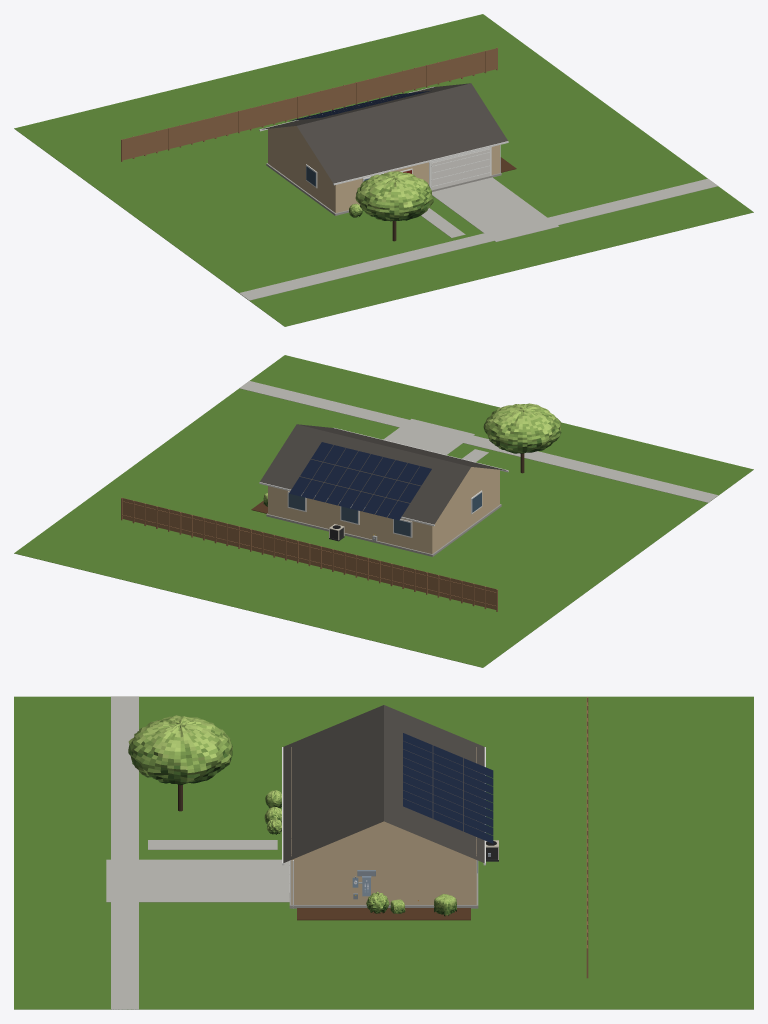
The model's file is home_02_pre_install.obj.
The picture shows the model from 3 angles, top to bottom: view 1: azimuth 30°, elevation 25°; view 2: azimuth 150°, elevation 25°; view 3: azimuth 270°, elevation 25°; orthographic projection. The views are drawn at different scales.
Visible parts, largest first — view 1: yard, house, tree_1, solar_array; view 2: yard, house, solar_array, tree_1; view 3: yard, house, solar_array, tree_1, mulch_bed_side.
Boxes of the visible parts, x1,y1,x2,y2 form: yard: [14, 14, 753, 326]; house: [259, 83, 508, 215]; tree_1: [355, 171, 433, 241]; solar_array: [290, 90, 431, 120]; yard: [14, 355, 753, 667]; house: [259, 424, 508, 556]; solar_array: [289, 442, 431, 520]; tree_1: [483, 403, 561, 473]; yard: [14, 696, 753, 1009]; house: [282, 705, 485, 908]; solar_array: [403, 733, 493, 843]; tree_1: [128, 715, 232, 811]; mulch_bed_side: [297, 908, 470, 920].
Size of the model in its own units: 40 by 5.38 by 40.
